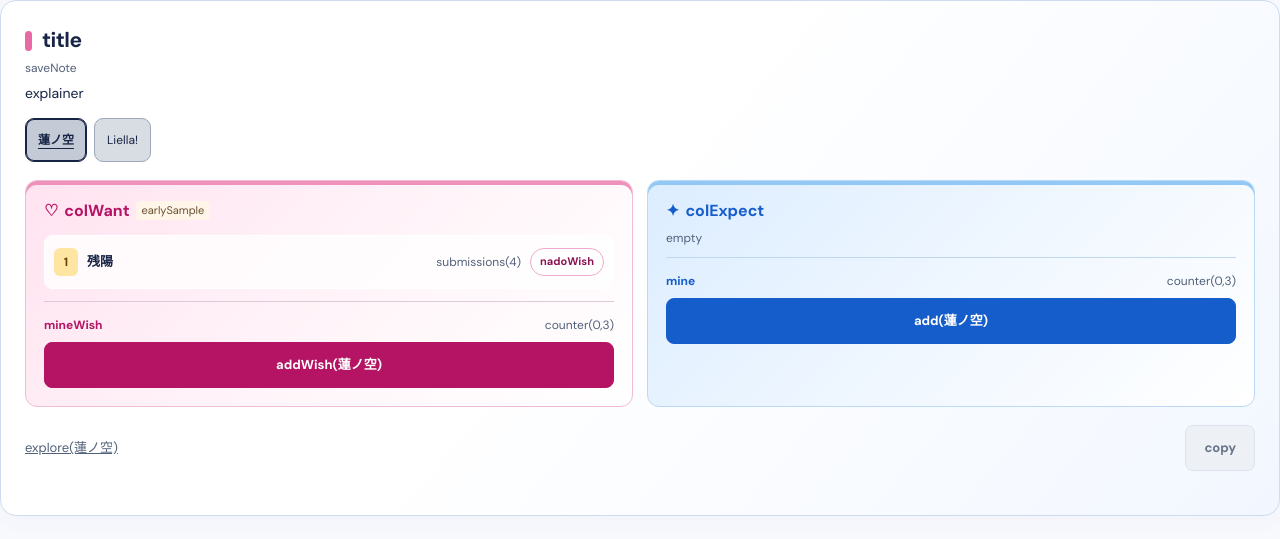
<FanBoardSection> one-tap 나도 on rows › surfaces a server 409 cap refusal the same way the picker does
Step 1. Click the button with test id "board-nado" → (567, 262), box [530, 248, 604, 276]
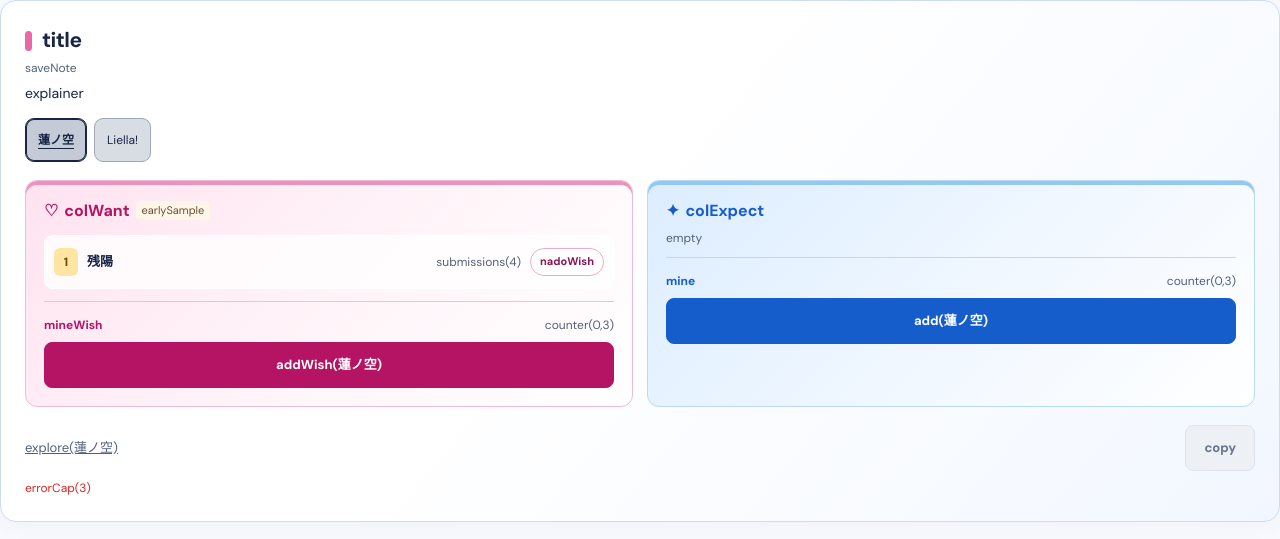
Result: the message with test id "board-toast" reads "errorCap(3)" at [25, 480, 91, 496]
